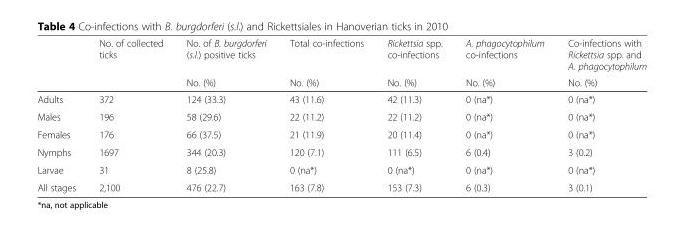table: (36, 37, 646, 192)
table column: (174, 37, 277, 192), (453, 37, 555, 192), (277, 37, 374, 192), (555, 37, 646, 192), (86, 37, 174, 192), (374, 37, 453, 192), (36, 37, 86, 192)
table column header: (36, 37, 646, 90)
table row: (36, 37, 646, 73), (36, 107, 646, 125), (36, 142, 646, 160), (36, 160, 646, 178), (36, 73, 646, 90), (36, 90, 646, 107), (36, 125, 646, 142), (36, 178, 646, 192)
table spanning cell: (174, 37, 277, 90), (453, 37, 555, 90), (277, 37, 374, 90), (555, 37, 646, 90), (86, 37, 174, 90), (374, 37, 453, 90)
